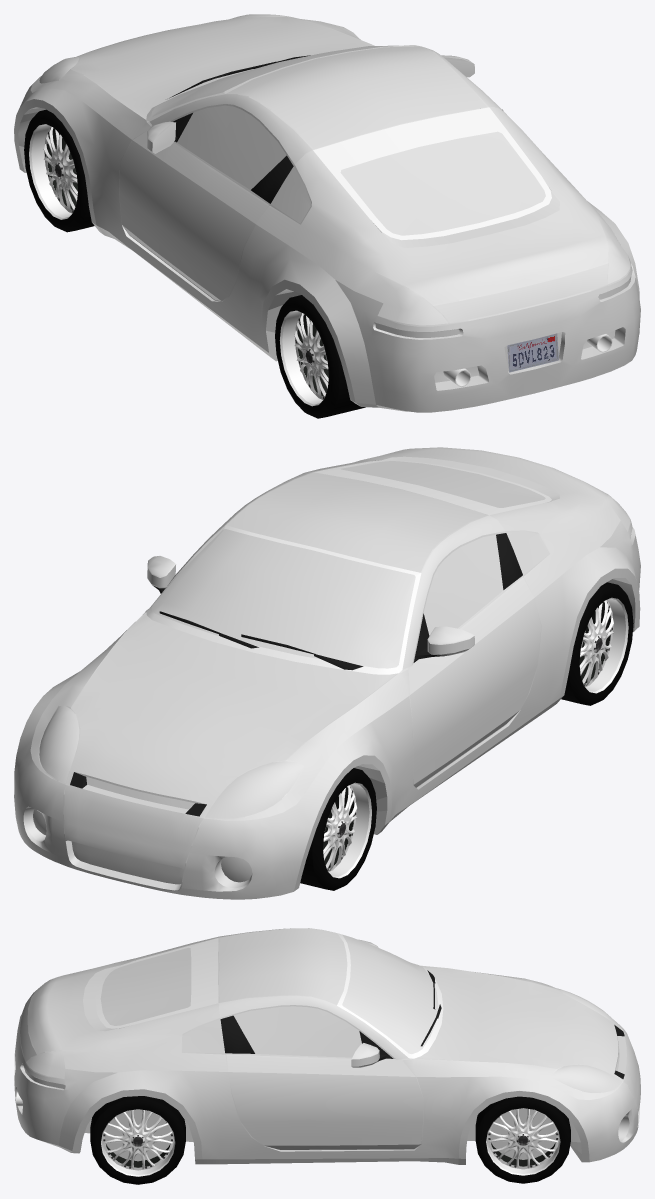
Rendered from MCLA_VA_350Z_04.glb.
3 renders of one model, top to bottom at view 1: azimuth 30°, elevation 25°; view 2: azimuth 150°, elevation 25°; view 3: azimuth 270°, elevation 25°, orthographic. The views are drawn at different scales.
Parts seen in each view (by area): view 1: va_350z_04/resources/vehicle/va_350z_04/body_lod_0.xrsc@reso (×7); view 2: va_350z_04/resources/vehicle/va_350z_04/body_lod_0.xrsc@reso (×6); view 3: va_350z_04/resources/vehicle/va_350z_04/body_lod_0.xrsc@reso (×6).
Boxes of the visible parts, x1,y1,x2,y2 form: va_350z_04/resources/vehicle/va_350z_04/body_lod_0.xrsc@reso (×7): (14, 14, 640, 418); va_350z_04/resources/vehicle/va_350z_04/body_lod_0.xrsc@reso (×6): (14, 447, 640, 899); va_350z_04/resources/vehicle/va_350z_04/body_lod_0.xrsc@reso (×6): (14, 928, 640, 1184).
Bounding box in the file's own units: 1.94 × 1.32 × 4.3.
Materials: 11 (7 with a texture image).
